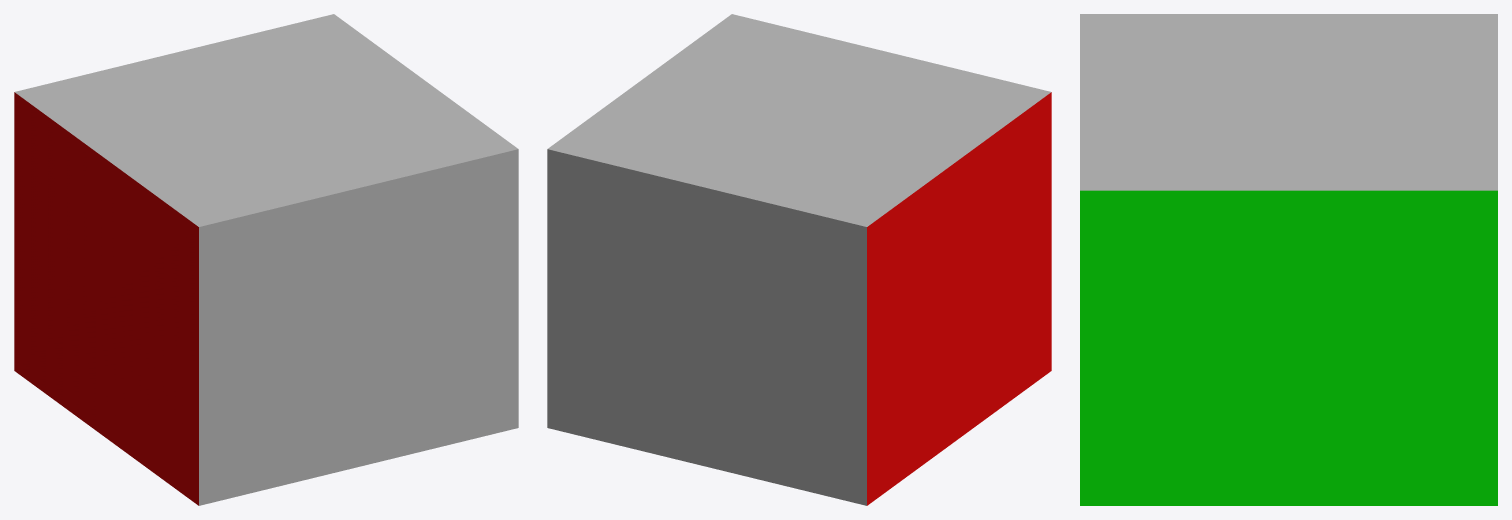
File: Room GI with uv2.fbx
The picture shows the model from 3 angles, left to right: view 1: azimuth 30°, elevation 25°; view 2: azimuth 150°, elevation 25°; view 3: azimuth 270°, elevation 25°; orthographic projection. The views are drawn at different scales.
Parts seen in each view (by area): view 1: Room; view 2: Room; view 3: Room.
Boxes of the visible parts, left/top/right/bottom form: Room: left=14, top=14, right=518, bottom=505; Room: left=547, top=14, right=1051, bottom=505; Room: left=1080, top=14, right=1497, bottom=505.
Size of the model in its own units: 240 by 200 by 240.
